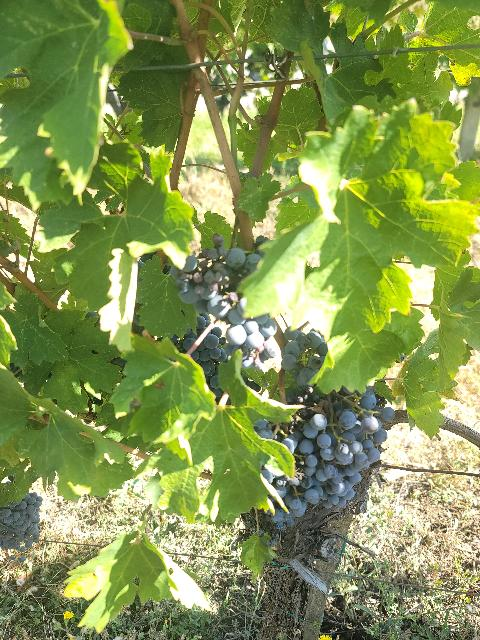grapes: (288, 386, 395, 506), (170, 234, 262, 319)
